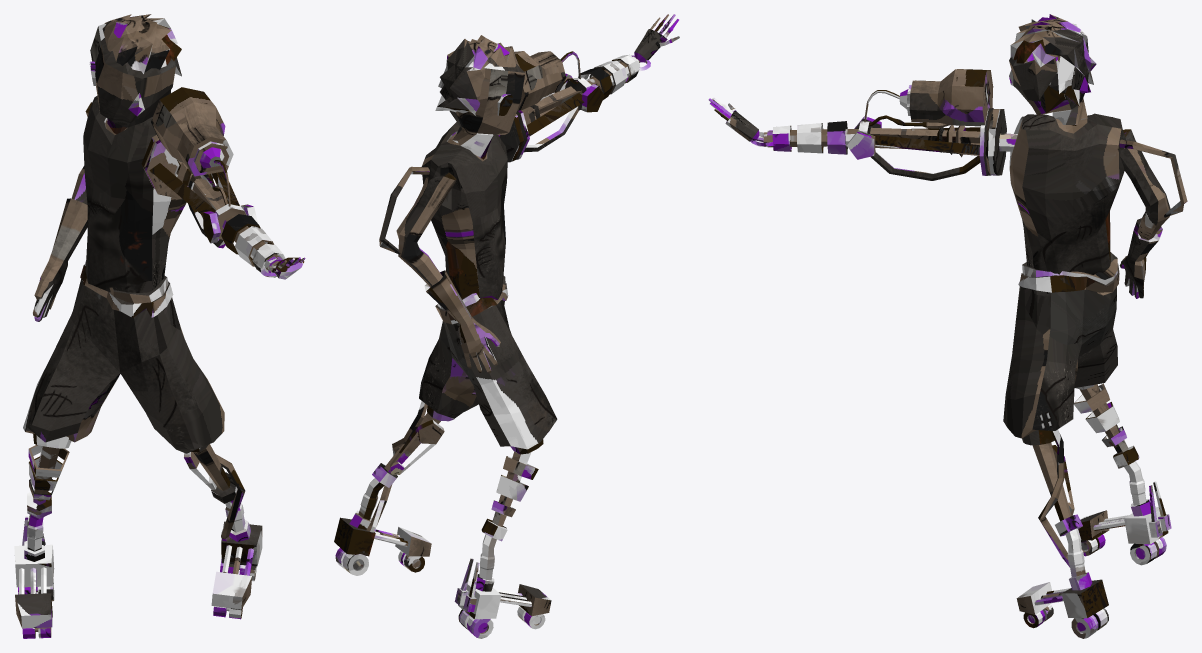
File: CyborgFINALAnimation_000024.obj
3 views of the same model, side by side, from view 1: azimuth 30°, elevation 25°; view 2: azimuth 150°, elevation 25°; view 3: azimuth 270°, elevation 25° (orthographic). The views are drawn at different scales.
Visible parts, largest first — view 1: CyborgMesh_Cube.002; view 2: CyborgMesh_Cube.002; view 3: CyborgMesh_Cube.002.
Part boxes in pixels (bbox=[...]): CyborgMesh_Cube.002: bbox=[14, 14, 305, 638]; CyborgMesh_Cube.002: bbox=[334, 14, 679, 638]; CyborgMesh_Cube.002: bbox=[708, 14, 1187, 638].
Bounding box in the file's own units: 3.86 × 9.42 × 7.23.
